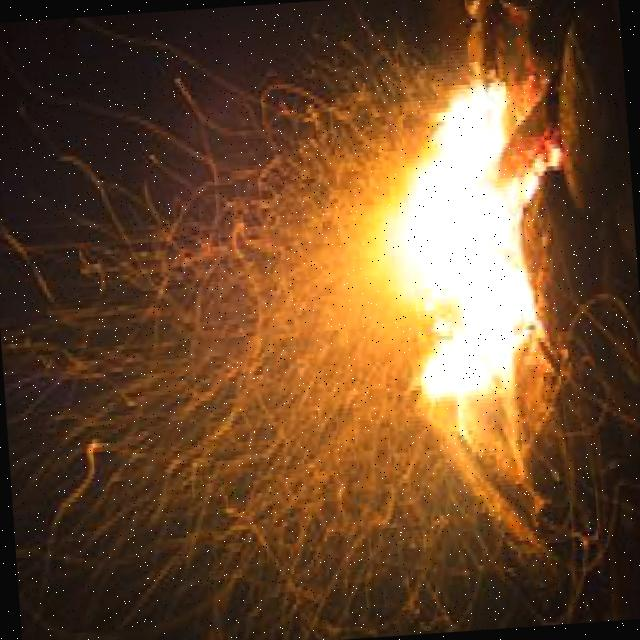fire: (56, 61, 536, 507), (354, 47, 566, 441)
